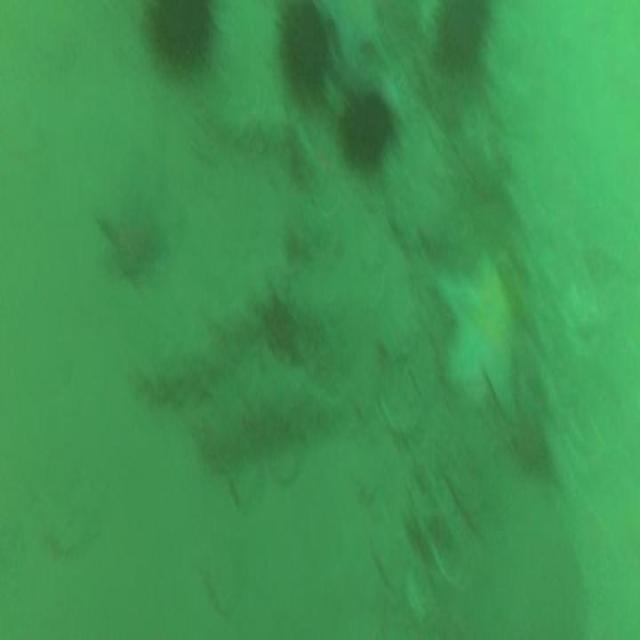echinus: (278, 5, 326, 93), (149, 0, 211, 66), (433, 0, 486, 70), (342, 91, 388, 162)
starfish: (439, 254, 522, 419), (99, 198, 164, 276)
